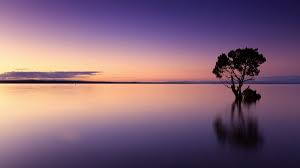sea: (3, 84, 295, 163)
sky: (2, 3, 287, 80)
tree: (214, 47, 268, 106)
